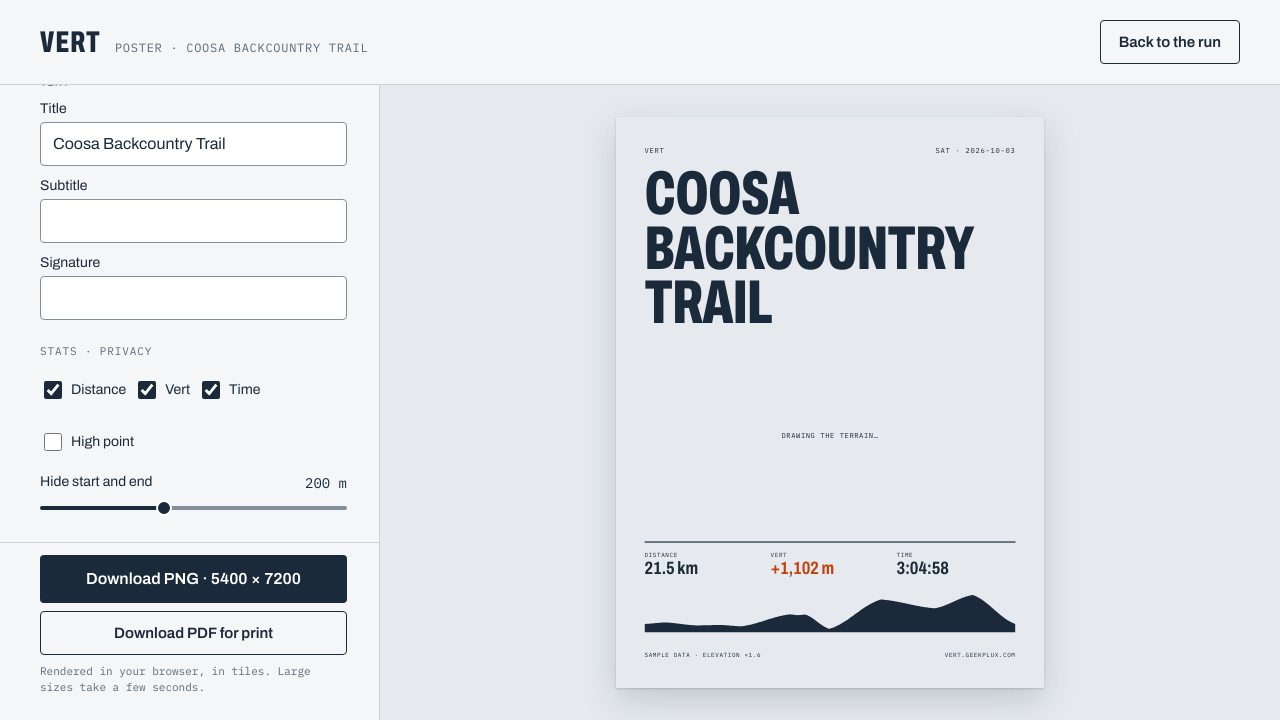
Test: PosterState › moves the hide start and end slider in 100 m steps
(page scrolled)
Set the slider labelled "Hide start and end" to "400" at (281, 508), box [40, 486, 347, 530]
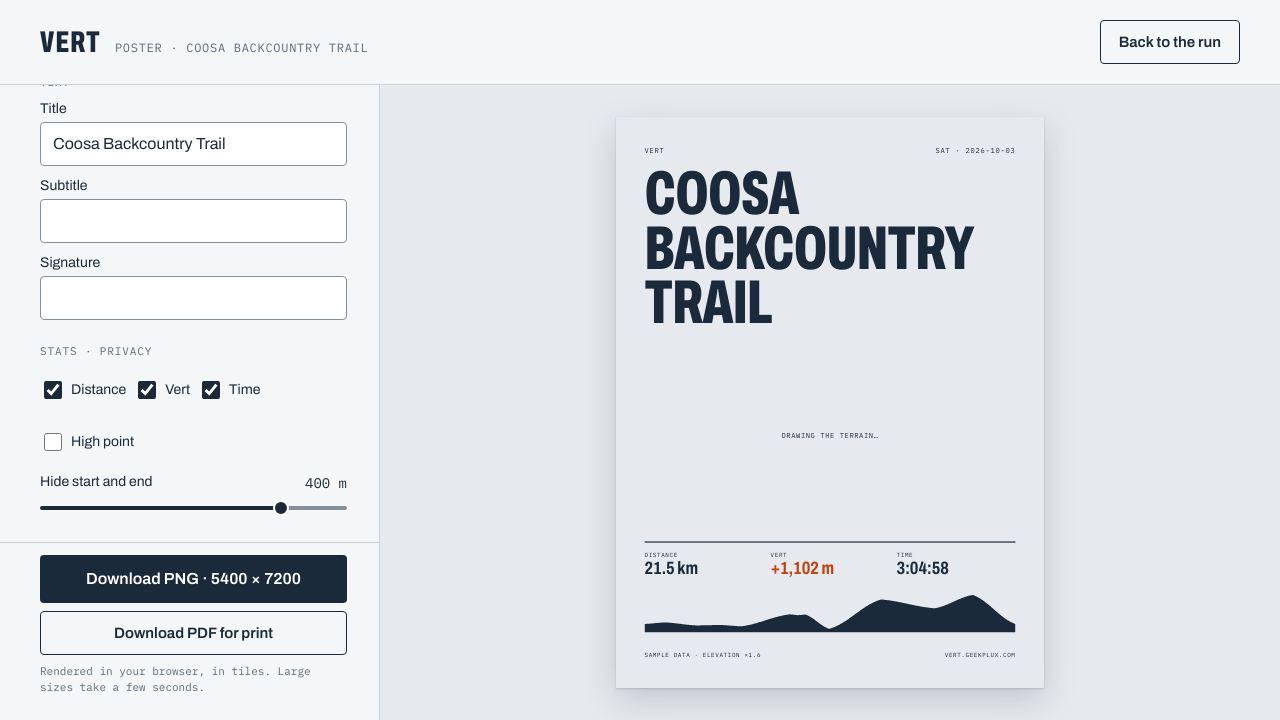
Result: the text "400 m" is shown at [305, 474, 347, 492]
